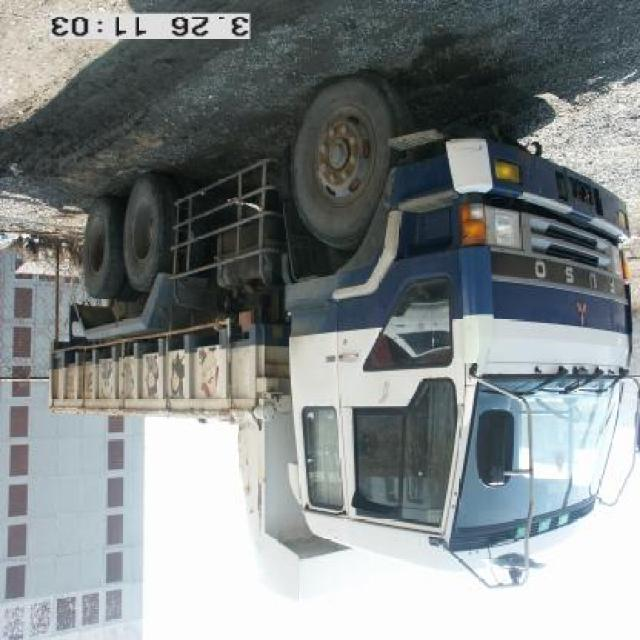truck: (47, 70, 640, 567)
